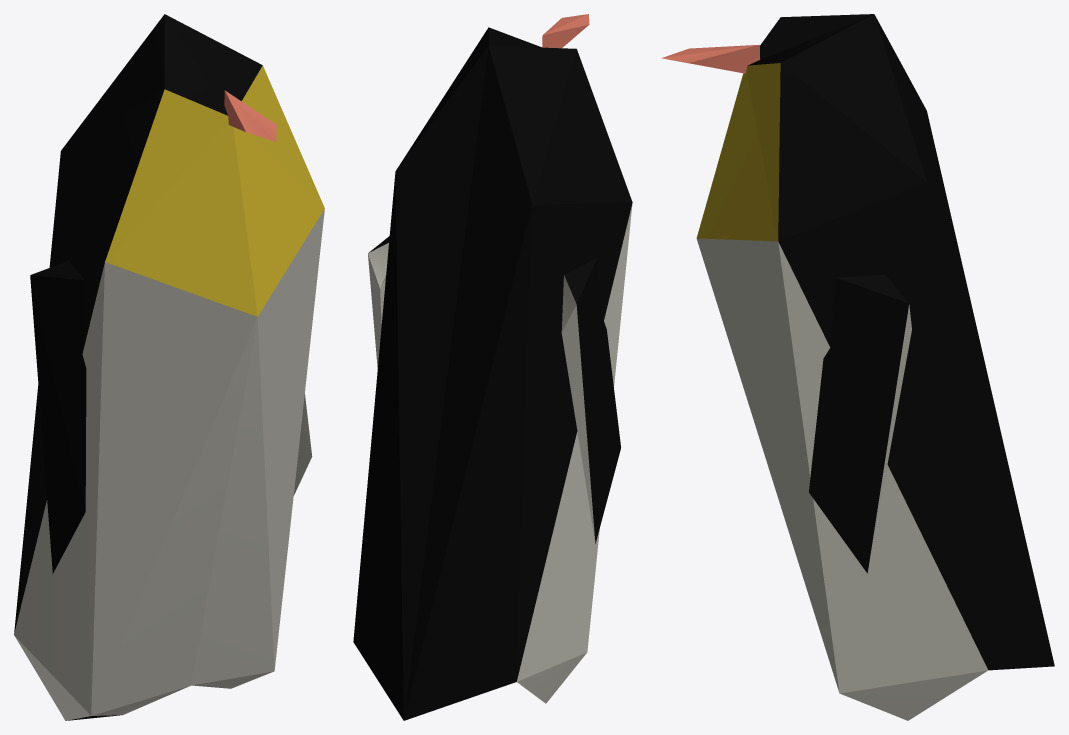
File: penguin_lod2.glb
3 renders of one model, left to right at view 1: azimuth 30°, elevation 25°; view 2: azimuth 150°, elevation 25°; view 3: azimuth 270°, elevation 25°, orthographic. The views are drawn at different scales.
Visible parts, largest first — view 1: penguin; view 2: penguin; view 3: penguin.
Boxes of the visible parts, x1,y1,x2,y2 form: penguin: [14, 14, 324, 720]; penguin: [353, 14, 632, 720]; penguin: [661, 14, 1054, 720].
Size of the model in its own units: 0.2913 by 0.8379 by 0.4471.
